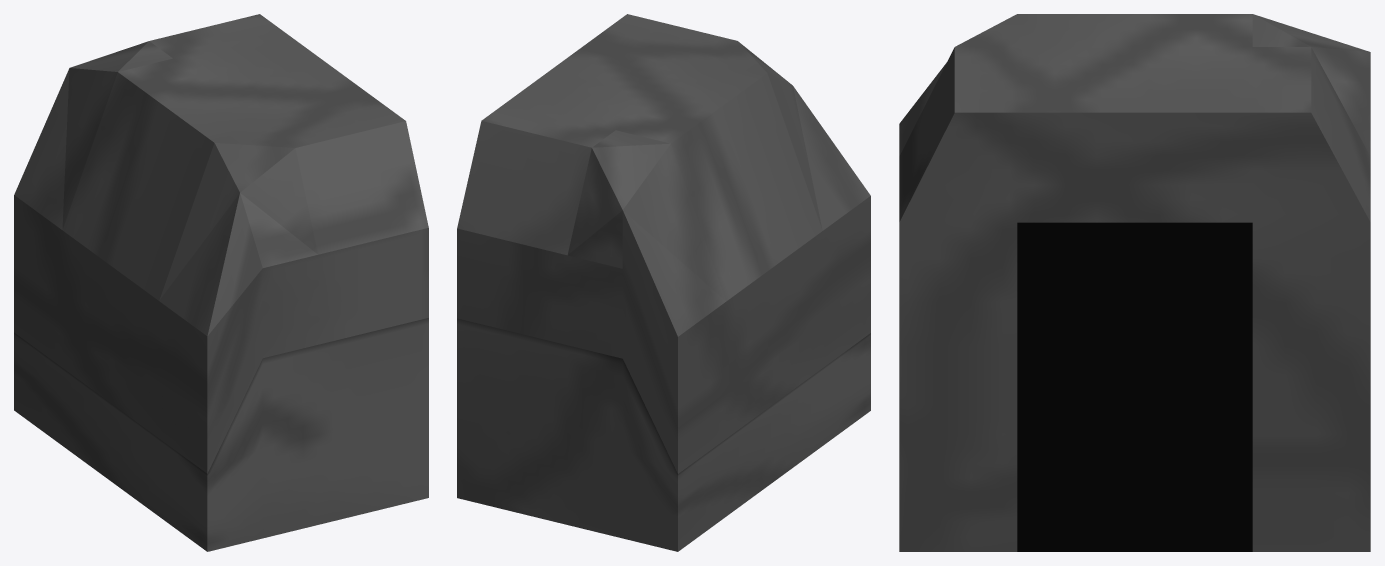
File: ObjectMineEntrance.dae
3 views of the same model, side by side, from view 1: azimuth 30°, elevation 25°; view 2: azimuth 150°, elevation 25°; view 3: azimuth 270°, elevation 25° (orthographic). The views are drawn at different scales.
Parts seen in each view (by area): view 1: Cube; view 2: Cube; view 3: Cube.
Boxes of the visible parts, <box> form: Cube: <box>14,14,428,551</box>; Cube: <box>457,14,870,551</box>; Cube: <box>899,14,1370,551</box>.
Size of the model in its own units: 2.2 by 3.32 by 3.42.
Materials: 1 (1 with a texture image).
